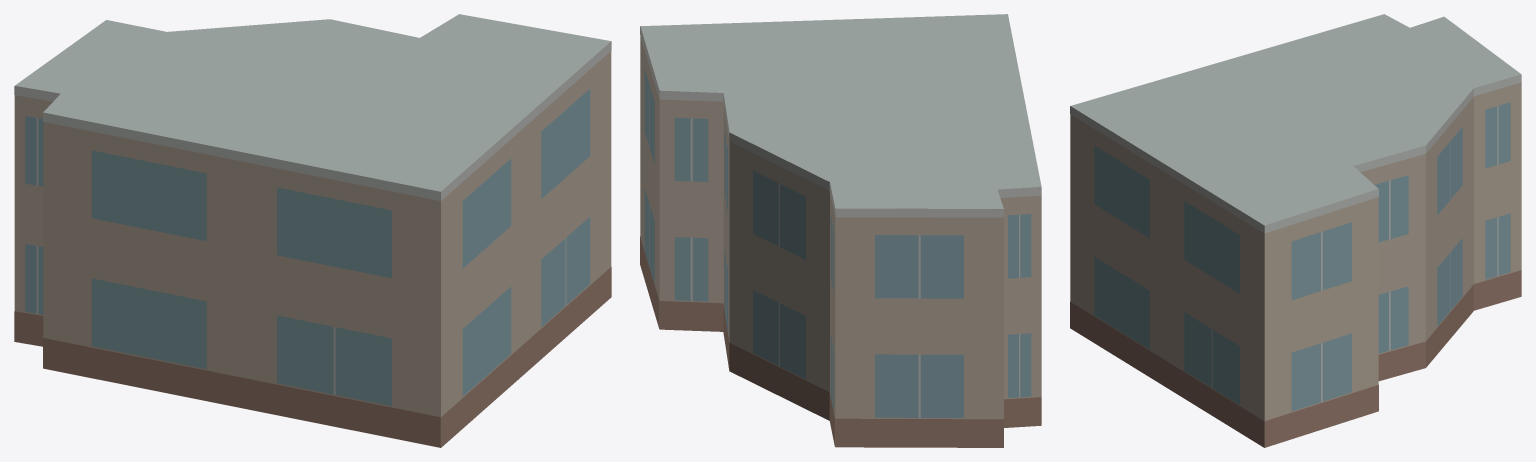
Rendered from survey-upis-32635877.glb.
The picture shows the model from 3 angles, left to right: view 1: azimuth 30°, elevation 25°; view 2: azimuth 150°, elevation 25°; view 3: azimuth 270°, elevation 25°; orthographic projection. The views are drawn at different scales.
Parts seen in each view (by area): view 1: survey-upis-32635877.tmp; view 2: survey-upis-32635877.tmp; view 3: survey-upis-32635877.tmp.
Boxes of the visible parts, <box> form: survey-upis-32635877.tmp: <box>14,14,611,447</box>; survey-upis-32635877.tmp: <box>640,14,1041,447</box>; survey-upis-32635877.tmp: <box>1070,14,1521,447</box>.
Bounding box in the file's own units: 13.68 × 6.7 × 12.34.
